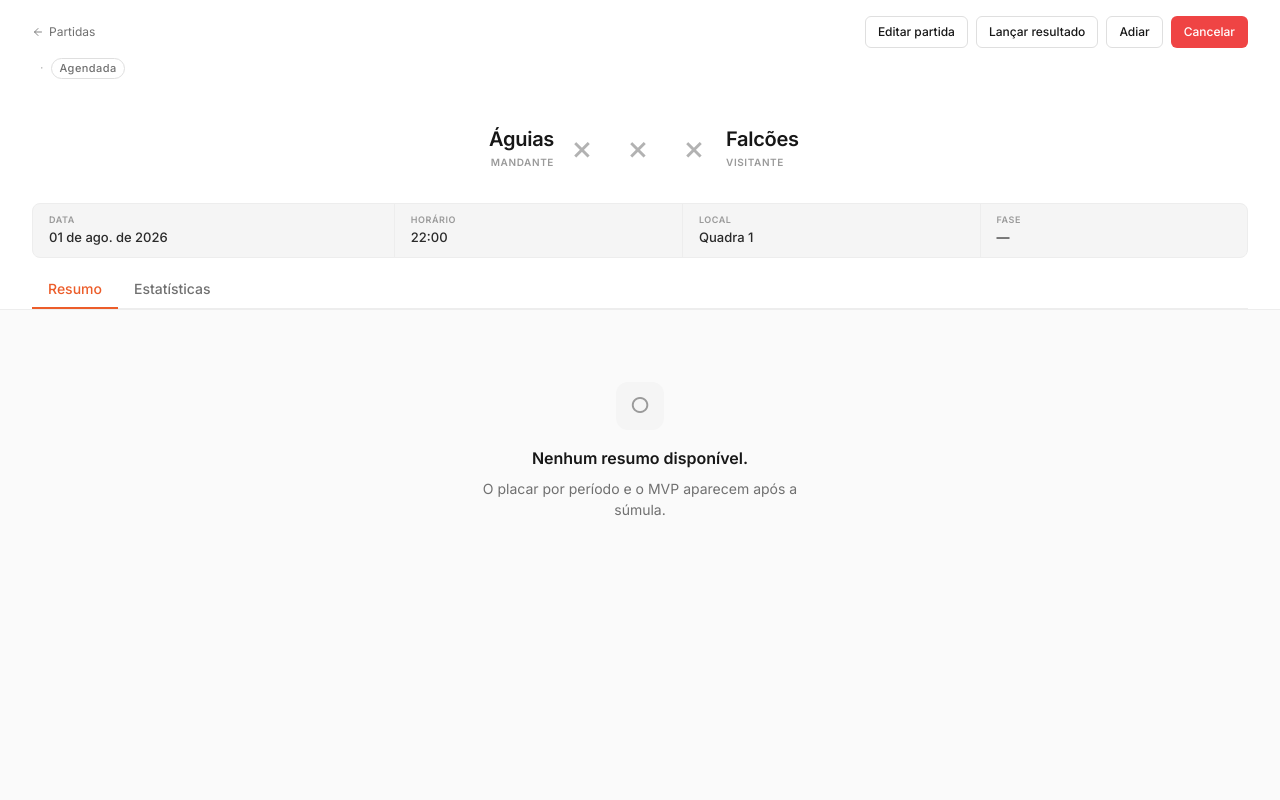
Scenario: MatchDetailPage — admin actions › keeps the page and shows the returned status after a successful postpone
Click the button "Adiar" at (1135, 32), box 1106,16 -> 1163,48
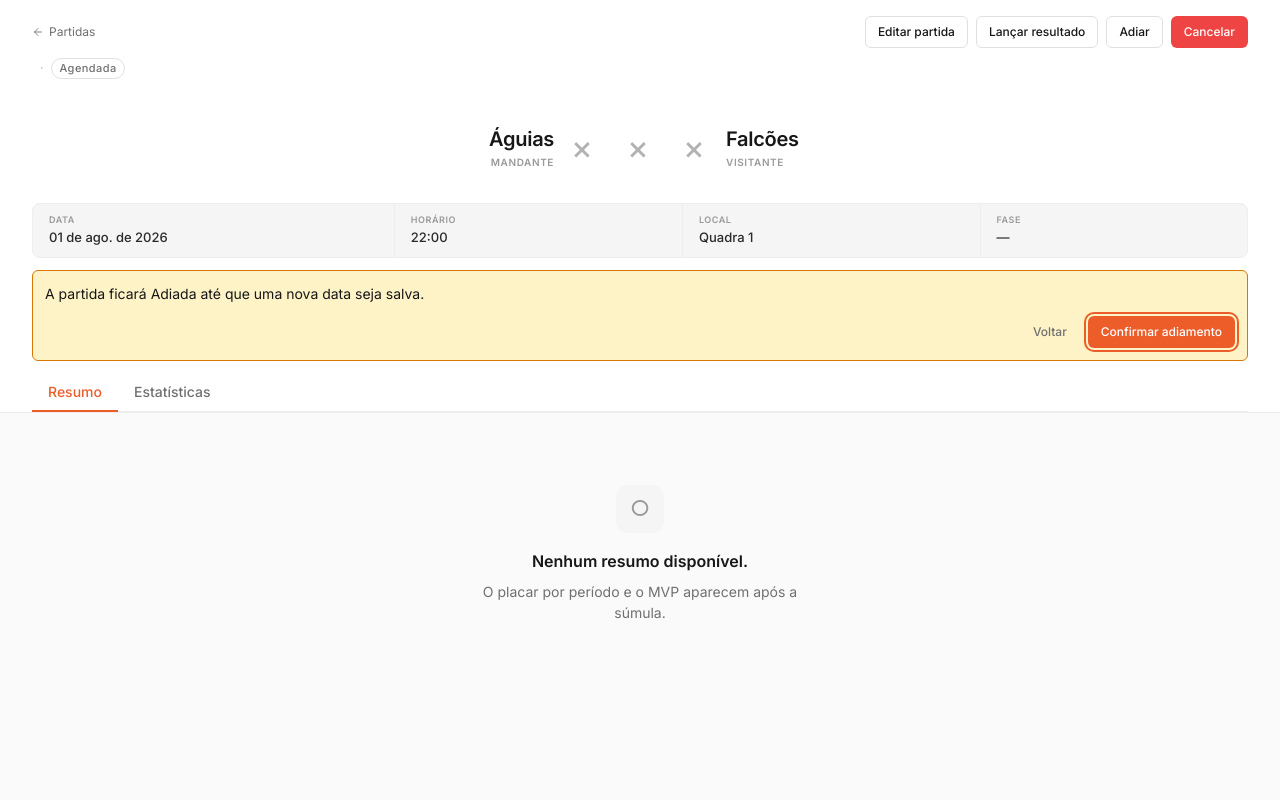
Click the button "Confirmar adiamento" at (1161, 332), box 1088,316 -> 1235,348
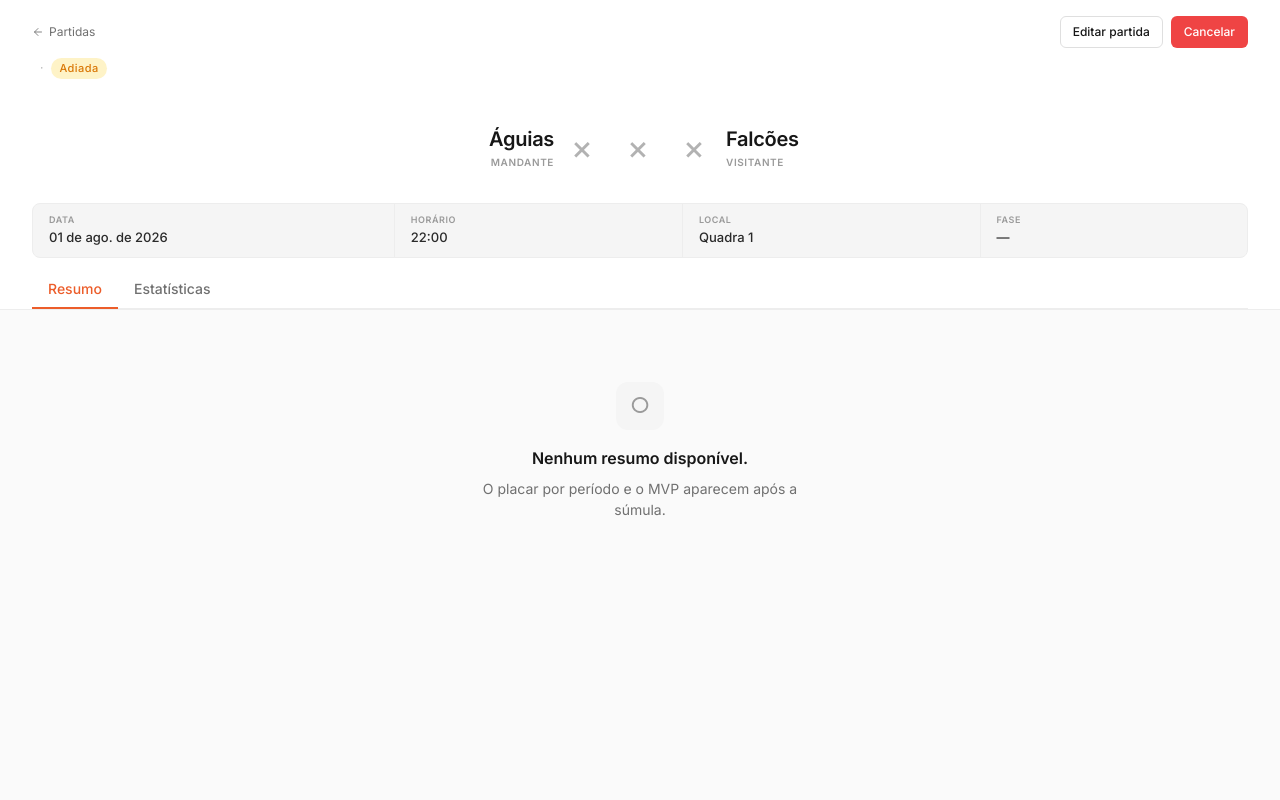
Result: the text "Adiada" is shown at 52,58 -> 107,78
